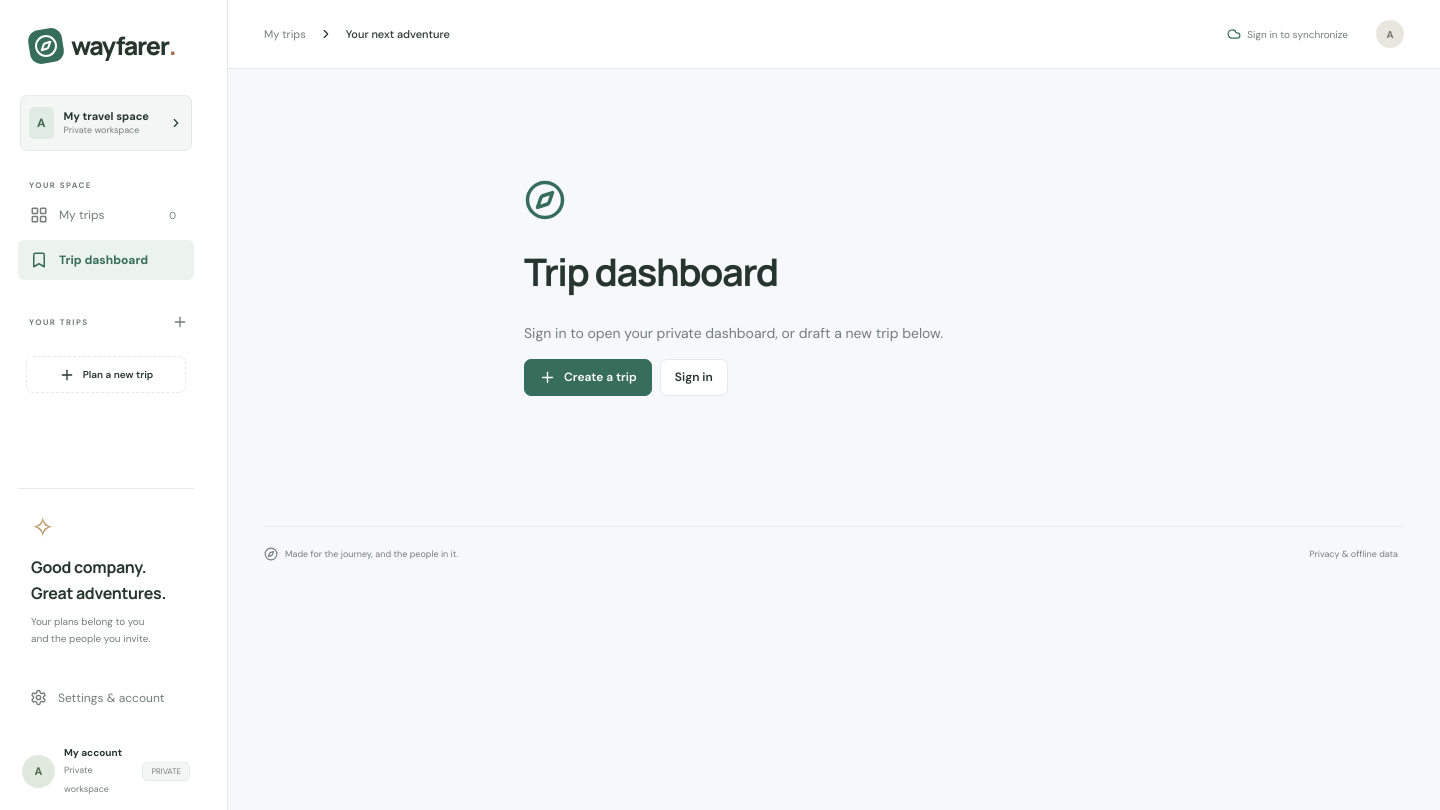
Test case: signed out: My trips0 opens the trip library
Expected: the heading "Trip dashboard" is shown, [524, 245, 778, 297]
Click the button named "My trips0".
click(106, 215)  # box [18, 195, 194, 235]
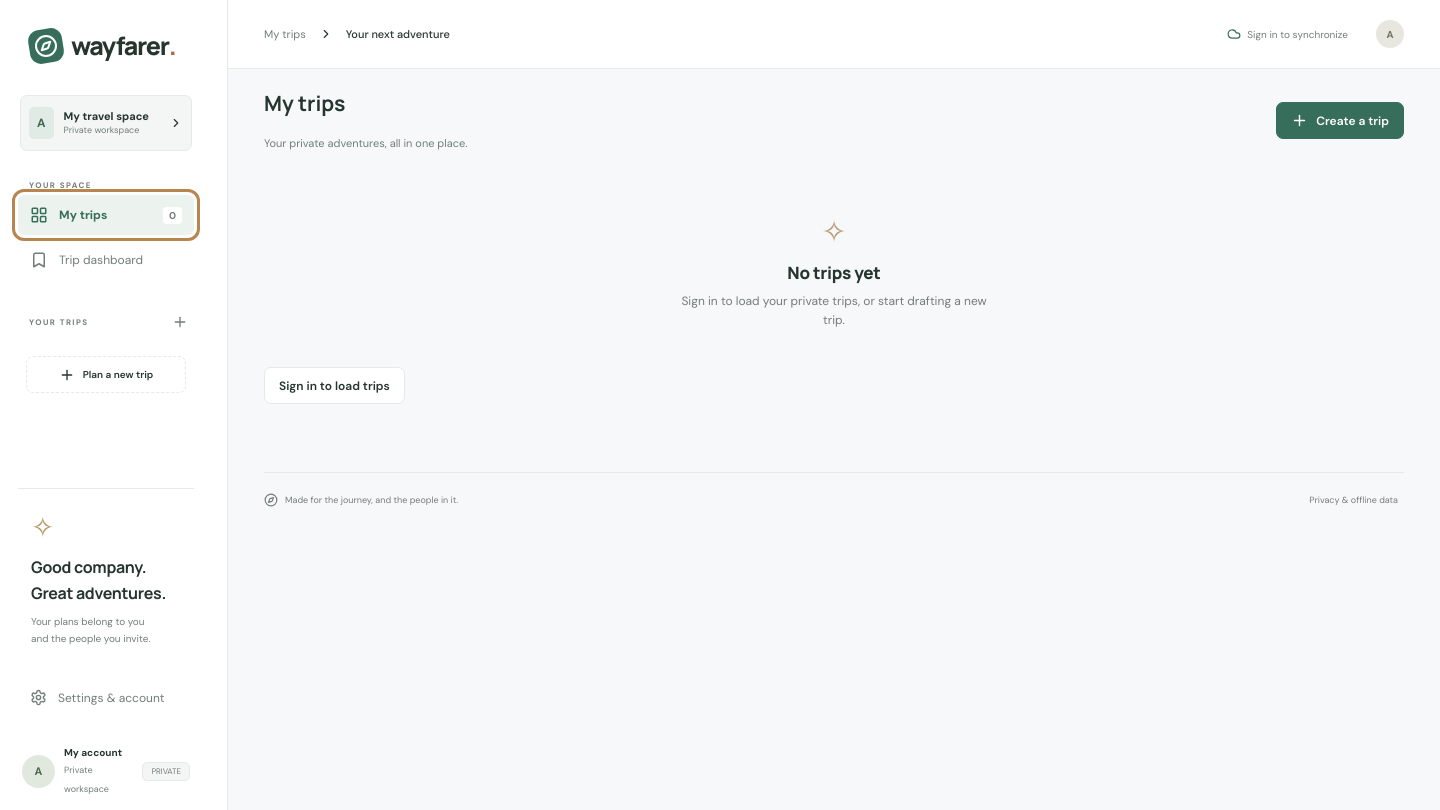
Now the heading "My trips" is shown, box [264, 89, 345, 117]
Now the heading "No trips yet" is shown, box [787, 261, 881, 284]
